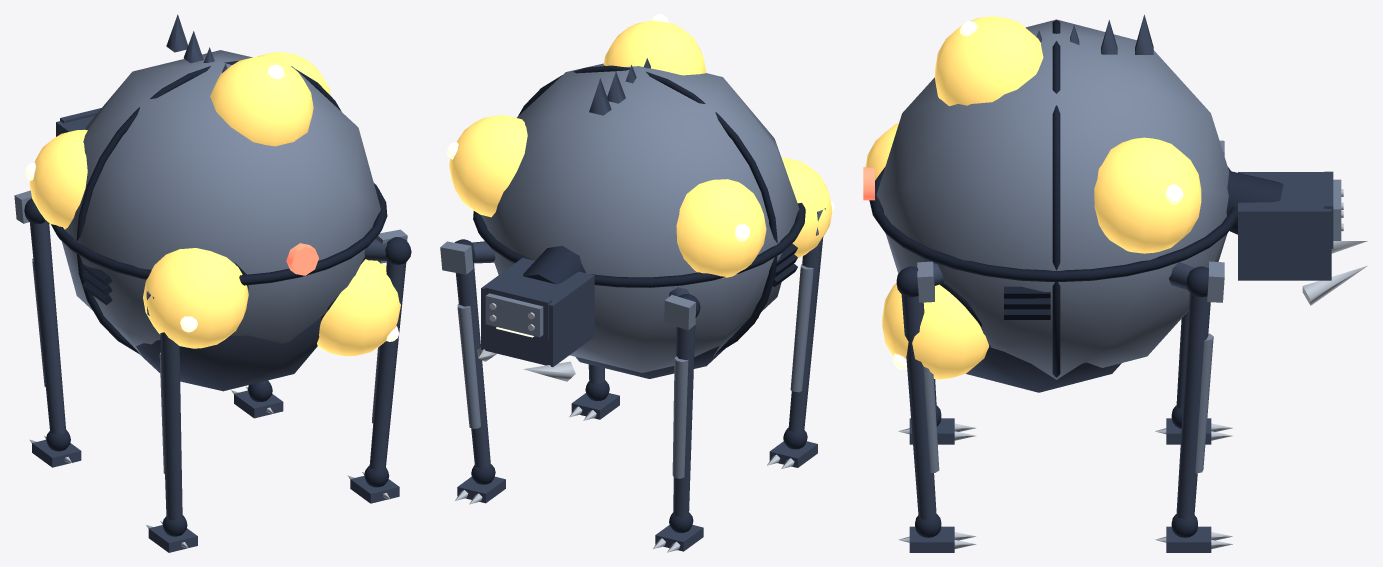
The model's file is enemy_cluster.glb.
3 views of the same model, side by side, from view 1: azimuth 30°, elevation 25°; view 2: azimuth 150°, elevation 25°; view 3: azimuth 270°, elevation 25° (orthographic). The views are drawn at different scales.
Visible parts, largest first — view 1: cluster_belly, cluster_sac3, cluster_sac4, cluster_belly_under, cluster_sac2, cluster_sac1, cluster_leg2_shin, cluster_leg1_shin, cluster_seam, cluster_leg0_shin, cluster_seam_b, cluster_ridge (+8 smaller); view 2: cluster_belly, cluster_sac1, cluster_head, cluster_sac0, cluster_sac4, cluster_seam, cluster_seam_b, cluster_sac3, cluster_leg3_shin, cluster_leg2_shin, cluster_leg1_shin, cluster_head_plate_face (+15 smaller); view 3: cluster_belly, cluster_sac0, cluster_head, cluster_sac4, cluster_sac2, cluster_seam, cluster_leg3_shin, cluster_leg0_shin, cluster_belly_under, cluster_seam_b, cluster_neck, cluster_vent_r (+10 smaller).
Boxes of the visible parts, <box> form: cluster_belly: <box>61,50,380,356</box>; cluster_sac3: <box>143,248,248,348</box>; cluster_sac4: <box>210,56,313,146</box>; cluster_belly_under: <box>136,318,322,391</box>; cluster_sac2: <box>317,259,400,356</box>; cluster_sac1: <box>29,129,87,229</box>; cluster_leg2_shin: <box>30,222,65,434</box>; cluster_leg1_shin: <box>160,332,182,520</box>; cluster_seam: <box>51,183,387,285</box>; cluster_leg0_shin: <box>369,261,406,470</box>; cluster_seam_b: <box>76,60,341,354</box>; cluster_ridge: <box>166,14,227,72</box>; cluster_belly: <box>480,63,799,372</box>; cluster_sac1: <box>676,179,766,278</box>; cluster_head: <box>481,257,594,366</box>; cluster_sac0: <box>449,115,527,217</box>; cluster_sac4: <box>603,20,706,75</box>; cluster_seam: <box>473,202,805,287</box>; cluster_seam_b: <box>518,65,777,353</box>; cluster_sac3: <box>781,158,832,257</box>; cluster_leg3_shin: <box>455,263,490,468</box>; cluster_leg2_shin: <box>673,325,695,517</box>; cluster_leg1_shin: <box>788,237,823,432</box>; cluster_head_plate_face: <box>485,293,543,337</box>; cluster_belly: <box>876,19,1229,379</box>; cluster_sac0: <box>1094,137,1201,253</box>; cluster_head: <box>1238,172,1331,280</box>; cluster_sac4: <box>935,16,1043,106</box>; cluster_sac2: <box>882,283,989,379</box>; cluster_seam: <box>869,167,1237,282</box>; cluster_leg3_shin: <box>1176,293,1210,519</box>; cluster_leg0_shin: <box>901,294,936,519</box>; cluster_belly_under: <box>966,347,1121,392</box>; cluster_seam_b: <box>1052,20,1060,377</box>; cluster_neck: <box>1226,171,1283,234</box>; cluster_vent_r: <box>1004,286,1050,319</box>.
Bounding box in the file's own units: 1.3 × 1.81 × 1.73.
